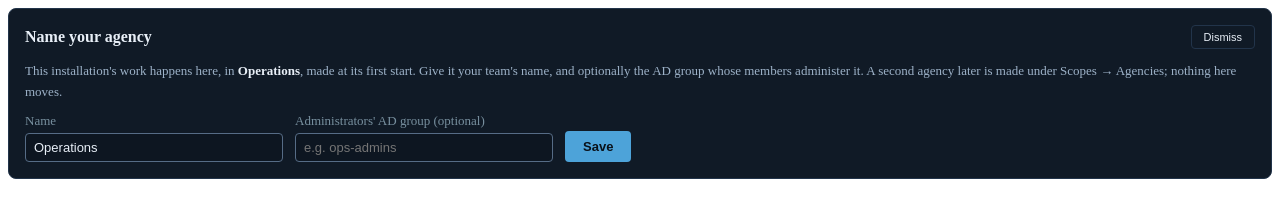
Scenario: Name your agency › says the group was not added when the grant is refused, and keeps the rename
Replace the text in the field named "Agency name" with "Platform" at (154, 147), box [25, 133, 283, 162]
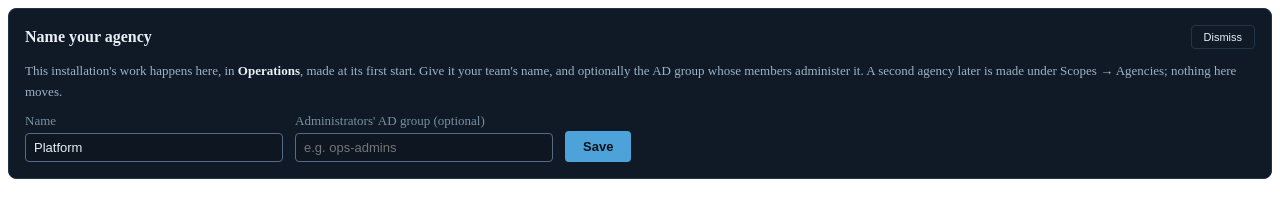
Type "x" into the field labelled "Administrators' AD group" at (424, 147), box [295, 133, 553, 162]
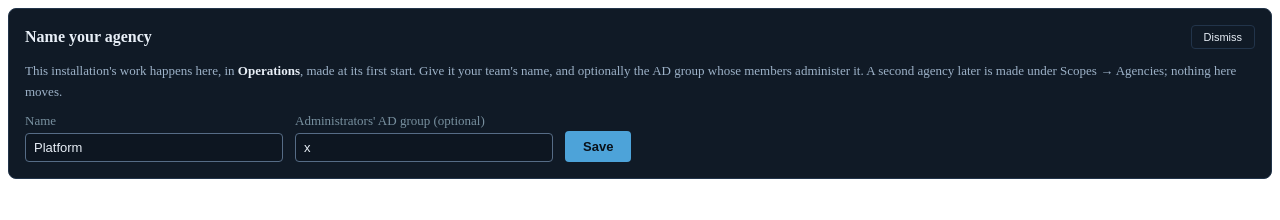
Click the button "Save" at (598, 146), box [565, 131, 631, 162]
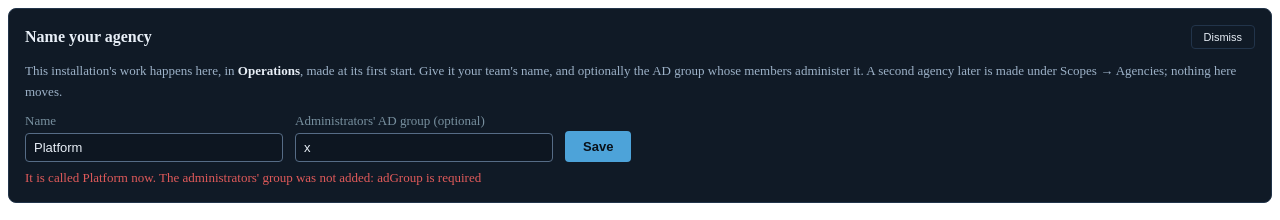
Expected: the message shows "It is called Platform now. The administrators' group was not added: adGroup is required", [25, 170, 481, 185]
